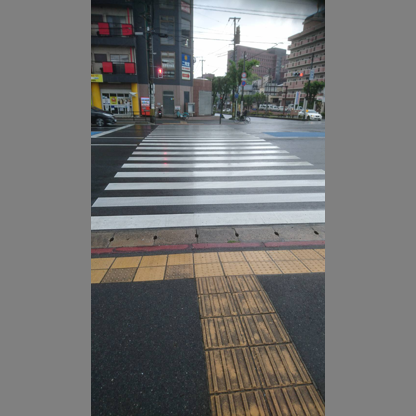brailleblock: (211, 339, 292, 390), (204, 291, 263, 342), (213, 384, 316, 413), (89, 256, 156, 284), (196, 270, 261, 292), (198, 250, 242, 279), (245, 247, 292, 274), (161, 253, 195, 278), (290, 248, 324, 271)
crosswalk: (90, 128, 324, 231)
signal: (89, 256, 156, 284), (156, 64, 163, 78)
